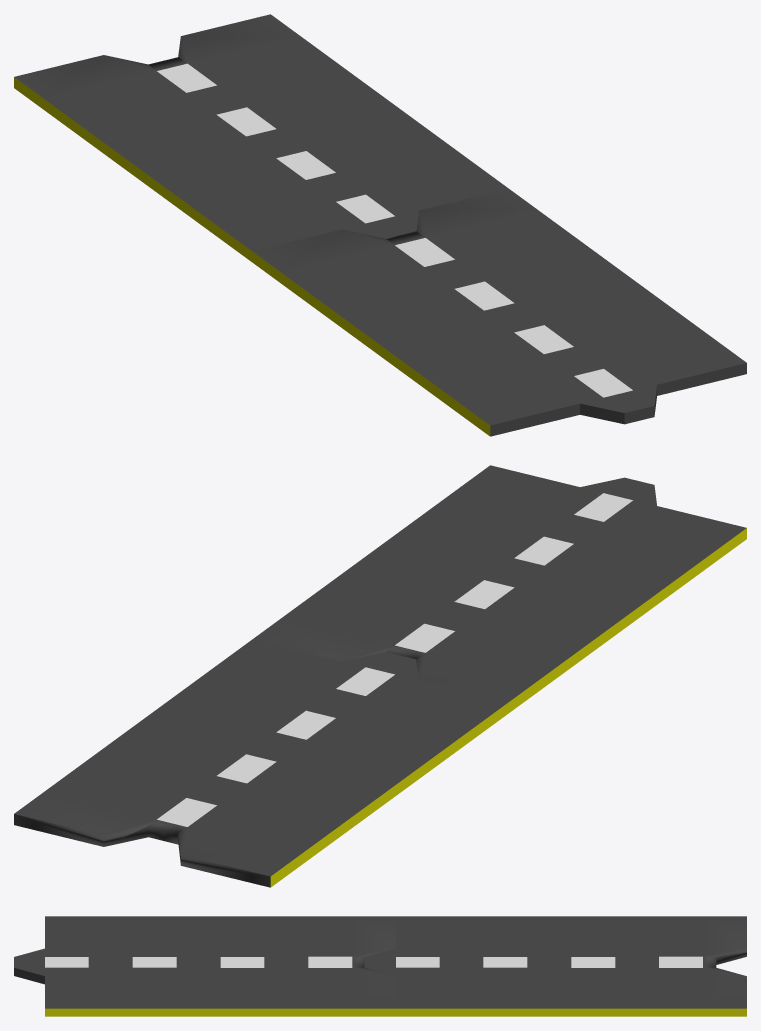
The model's file is Double Single Track Piece.fbx.
3 renders of one model, top to bottom at view 1: azimuth 30°, elevation 25°; view 2: azimuth 150°, elevation 25°; view 3: azimuth 270°, elevation 25°, orthographic. The views are drawn at different scales.
Parts seen in each view (by area): view 1: straight_piece31, straight_piece30; view 2: straight_piece30, straight_piece31; view 3: straight_piece30, straight_piece31.
Boxes of the visible parts, box(x1,y1,x2,y2) form: straight_piece31: box(252, 189, 746, 436); straight_piece30: box(14, 14, 508, 261); straight_piece30: box(14, 639, 508, 887); straight_piece31: box(252, 465, 746, 712); straight_piece30: box(364, 916, 746, 1016); straight_piece31: box(14, 916, 396, 1016).
Bounding box in the file's own units: 8.53 × 0.3557 × 28.6.
